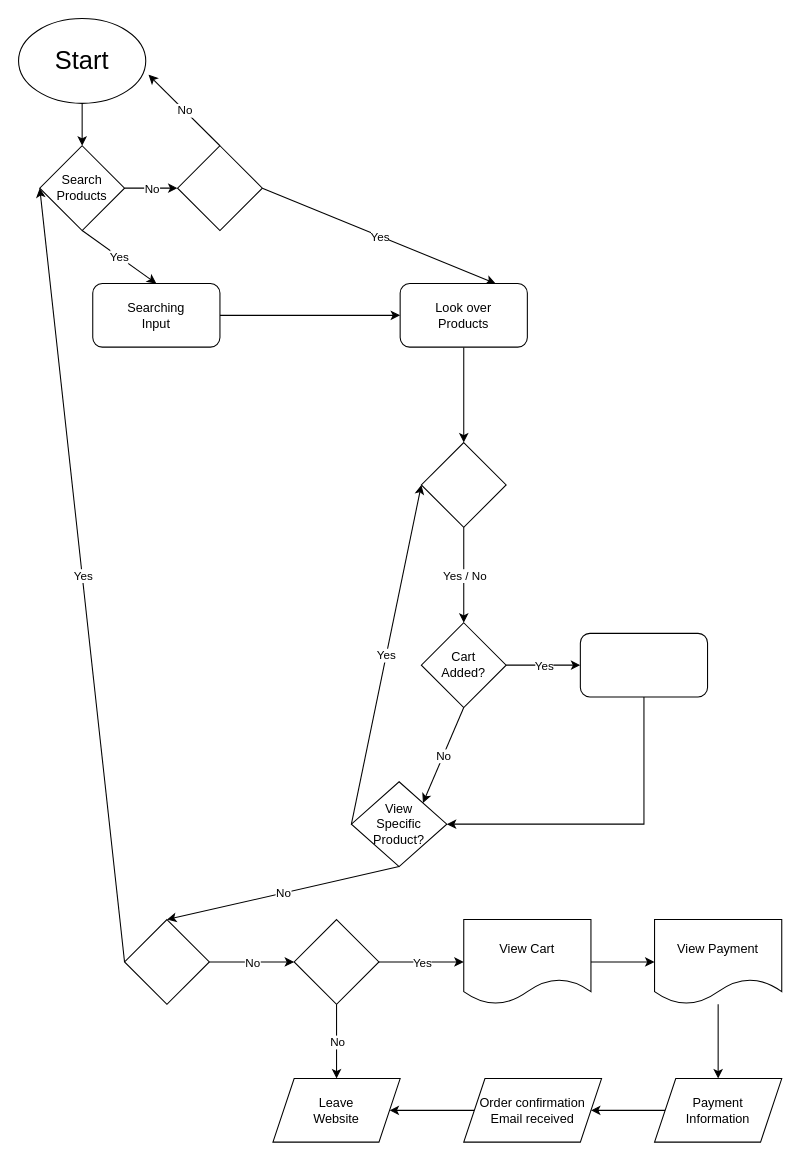
The diagram is 800 pixels wide and 1161 high, and some of its shapes have lost their labels. Here are the shapes that lost their labels. From the top down, the centre of each, then its label:
At (x=219, y=188): "Explore Products".
At (x=463, y=484): "View Specific Product".
At (x=643, y=664): "Added to cart confirmation".
At (x=166, y=961): "Continue Shopping?".
At (x=336, y=961): "Checkout".
